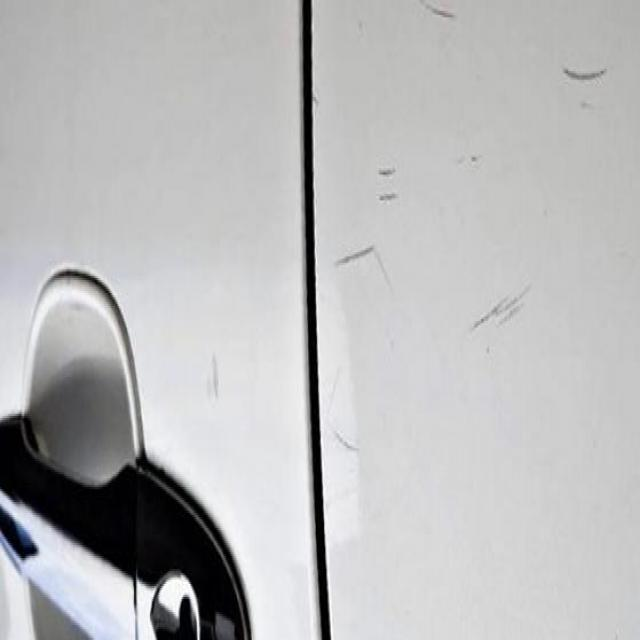scratch: (456, 268, 534, 354), (318, 238, 390, 290), (372, 139, 404, 221), (554, 55, 616, 85), (400, 0, 471, 24)
